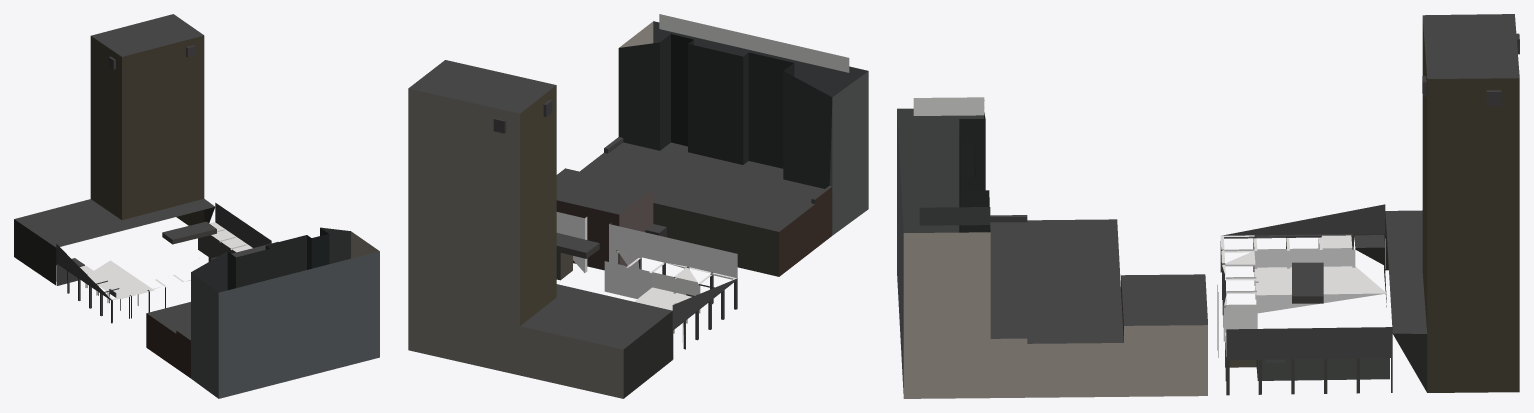
Rendered from 700-market-street.glb.
The picture shows the model from 3 angles, left to right: view 1: azimuth 30°, elevation 25°; view 2: azimuth 150°, elevation 25°; view 3: azimuth 270°, elevation 25°; orthographic projection. The views are drawn at different scales.
Visible parts, largest first — view 1: LOD0; view 2: LOD0; view 3: LOD0.
Boxes of the visible parts, <box> form: LOD0: <box>14,14,379,398</box>; LOD0: <box>408,14,868,398</box>; LOD0: <box>897,14,1519,398</box>.
Size of what is drawn, in the model's own units: 63.36 by 71.08 by 128.
2 materials, 2 textured.
